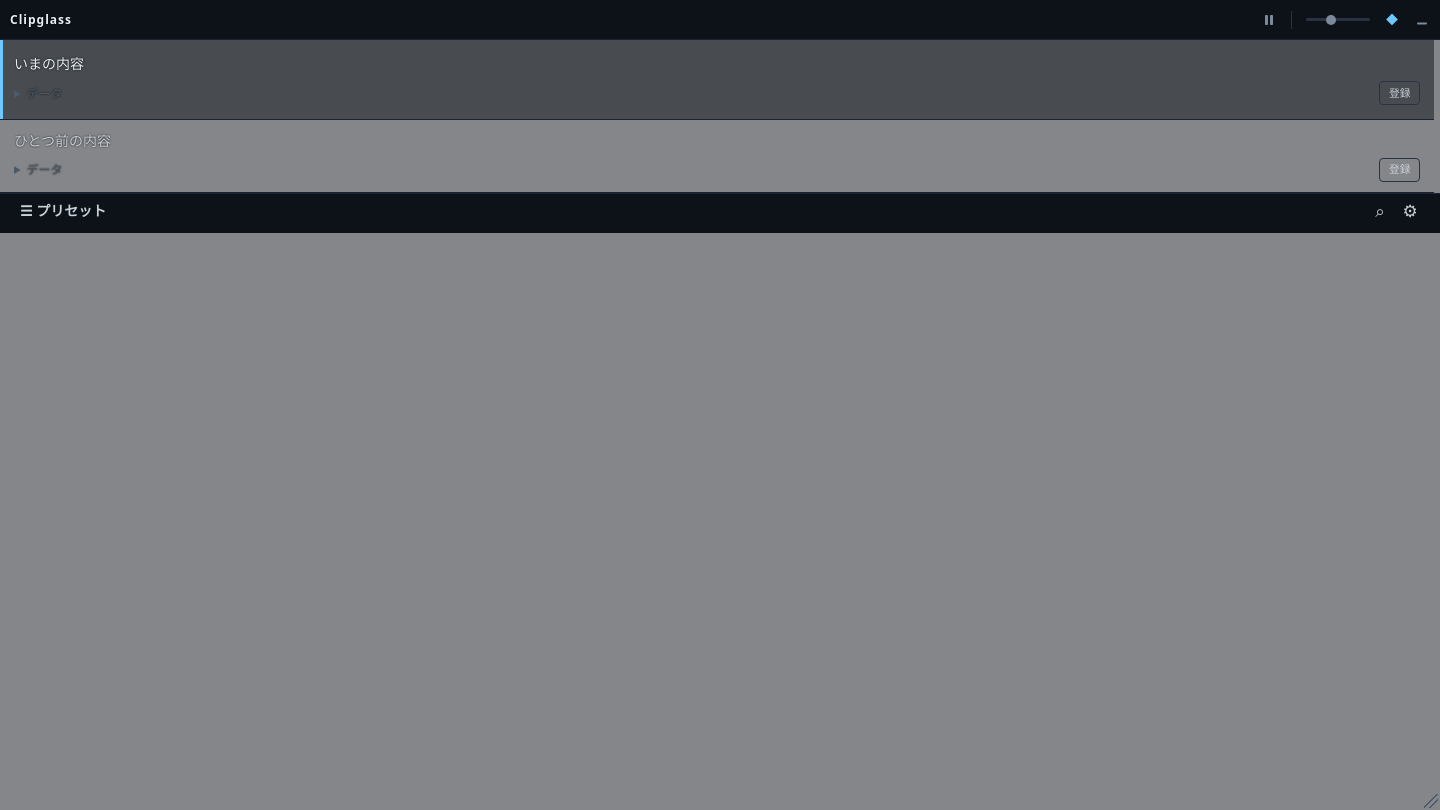
Scenario: App › 絞り込みはふだん閉じていて、開閉できる。閉じると条件も解く
Click the button named "検索と絞り込み" at (1380, 211), box [1366,199,1394,223]
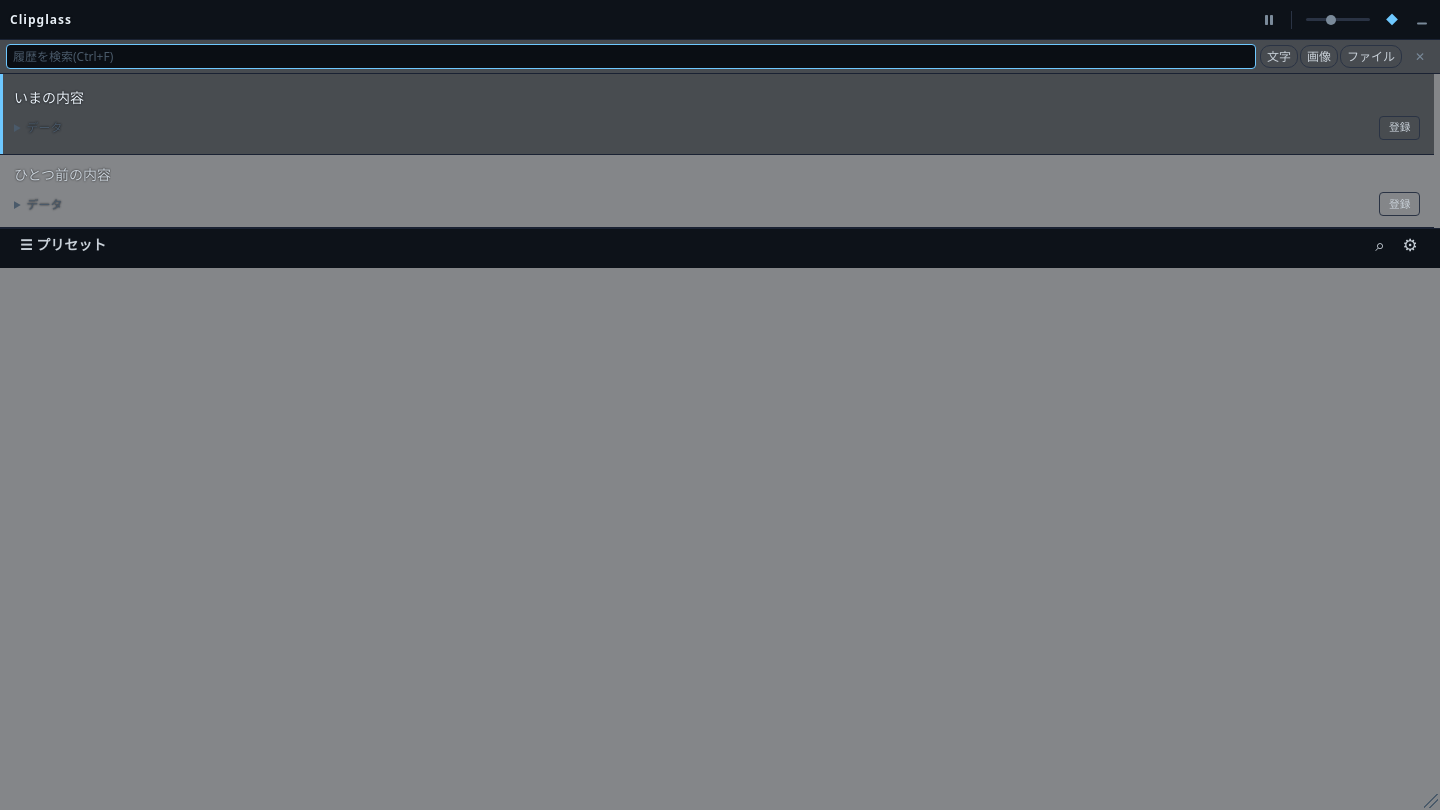
Result: the search field with id "search" is shown
Type "ひとつ" into the search field with id "search" at (631, 57), box [6,44,1256,69]
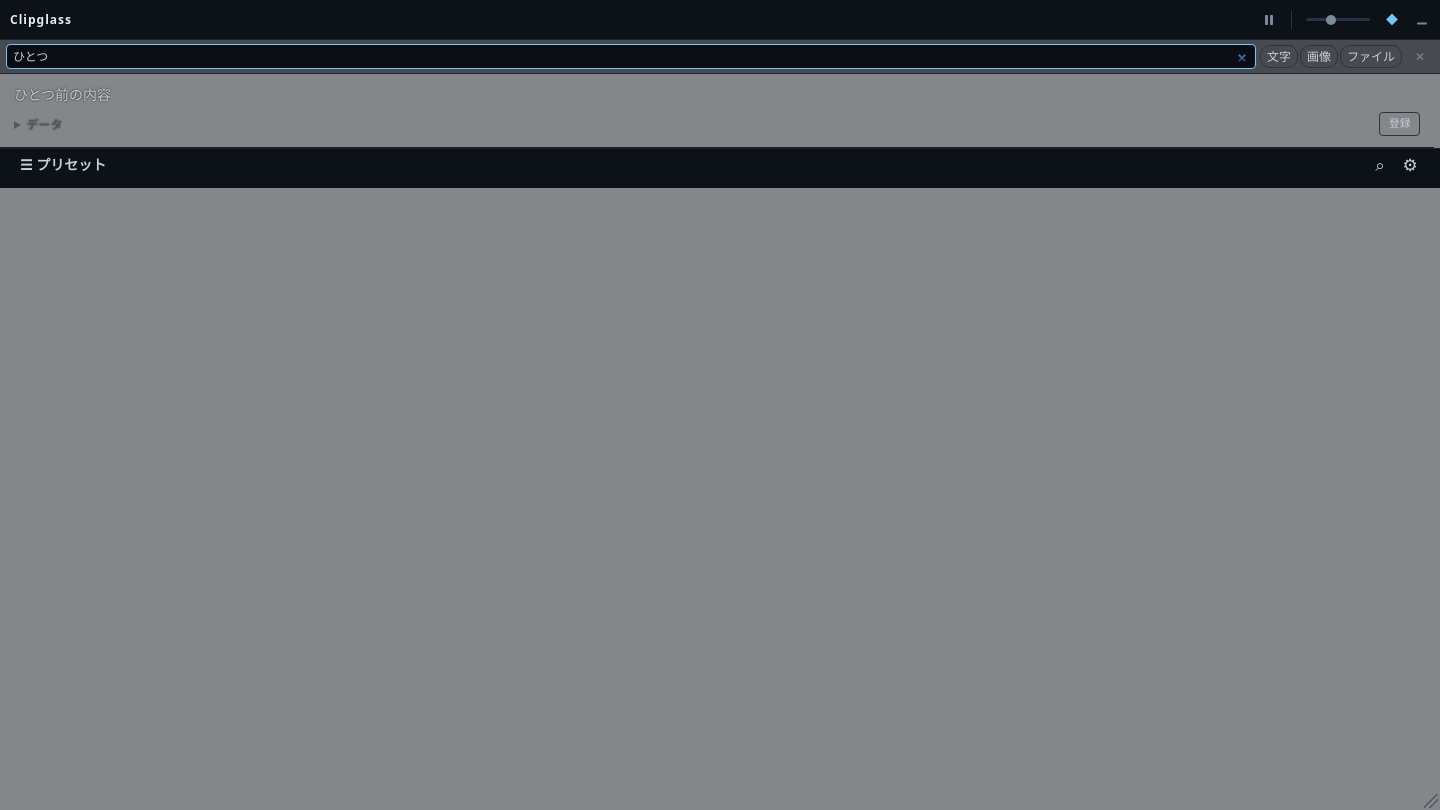
Result: the button named "絞り込みを閉じる" is shown
Click the button named "絞り込みを閉じる" at (1420, 57), box [1406,45,1434,69]
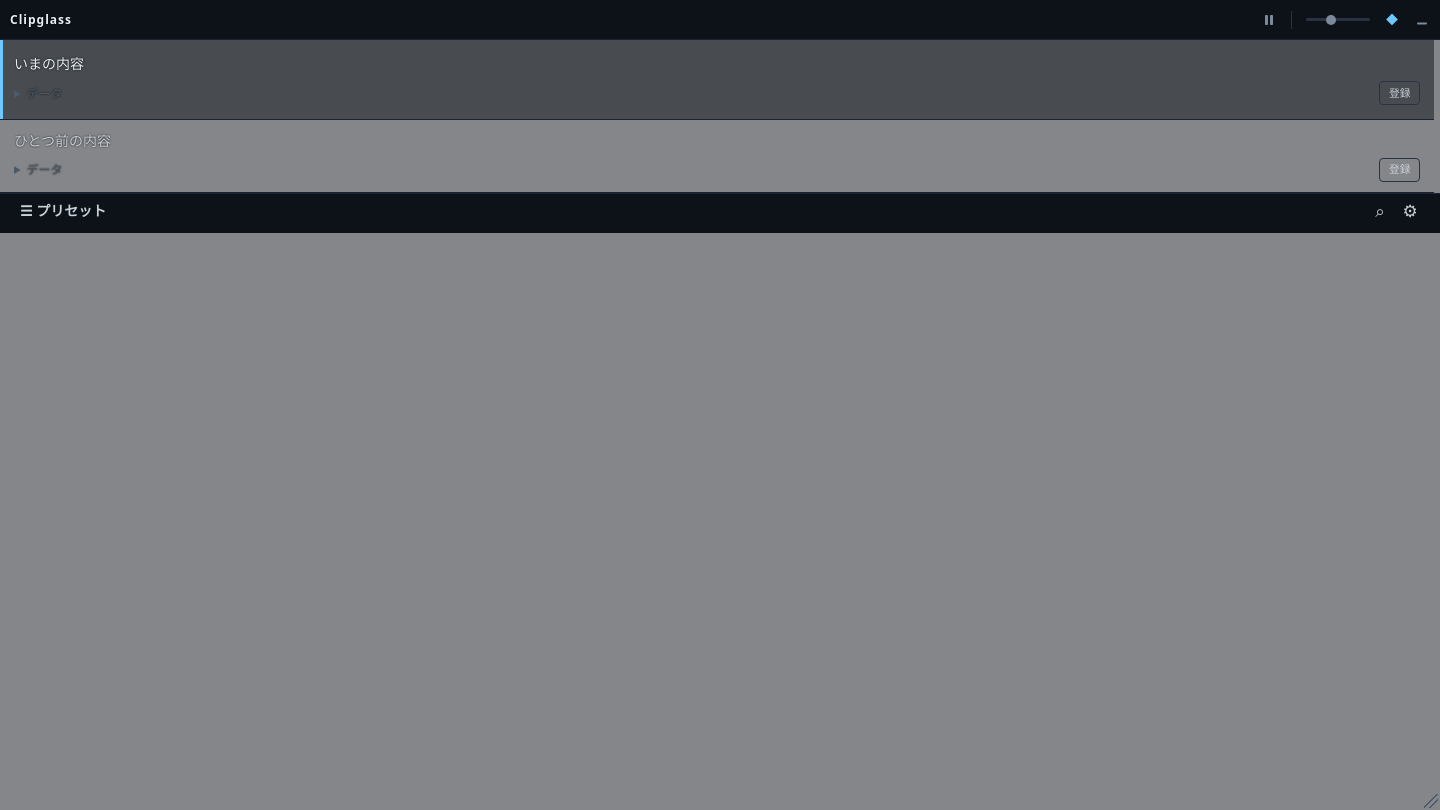
Result: the search field with id "search" is gone
